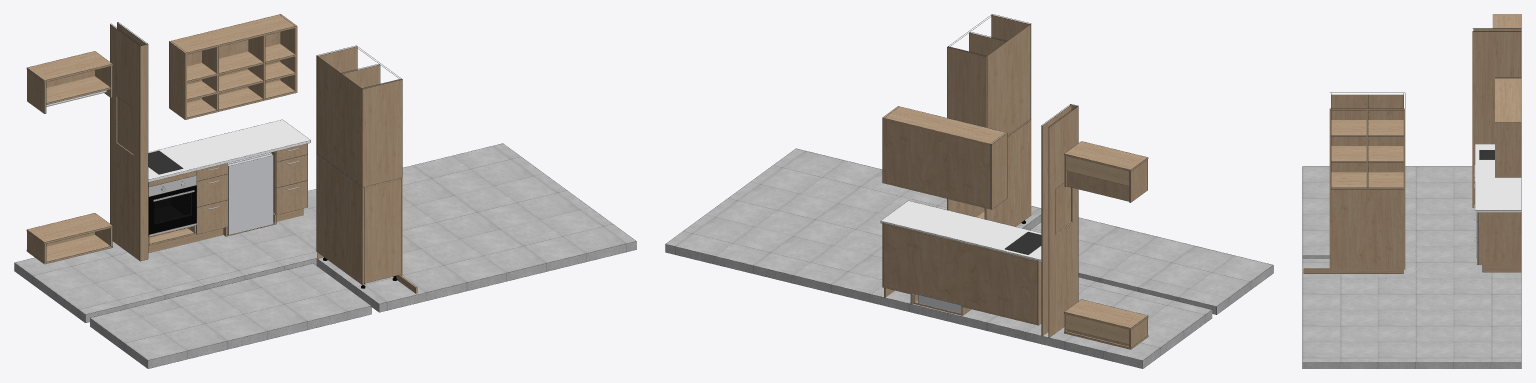
The model's file is modell.glb.
3 views of the same model, side by side, from view 1: azimuth 30°, elevation 25°; view 2: azimuth 150°, elevation 25°; view 3: azimuth 270°, elevation 25° (orthographic). The views are drawn at different scales.
Bounding box in the file's own units: 6128 × 2683 × 2903.
Materials: 21 (9 with a texture image).
